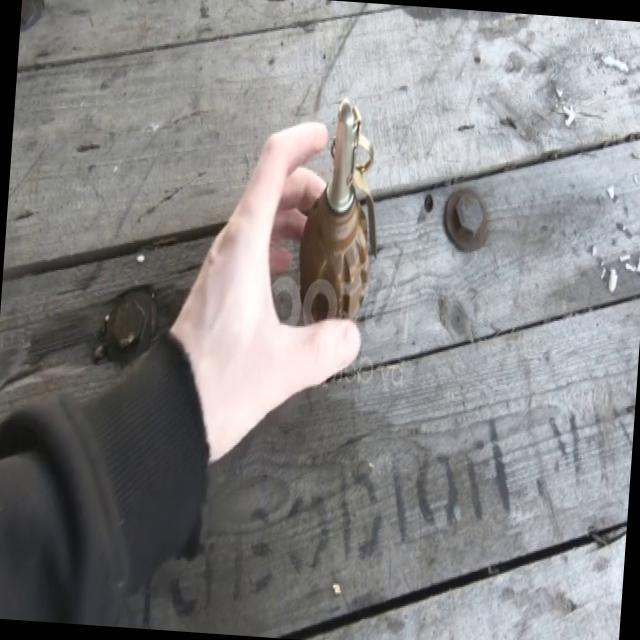grenade: (289, 98, 389, 352)
